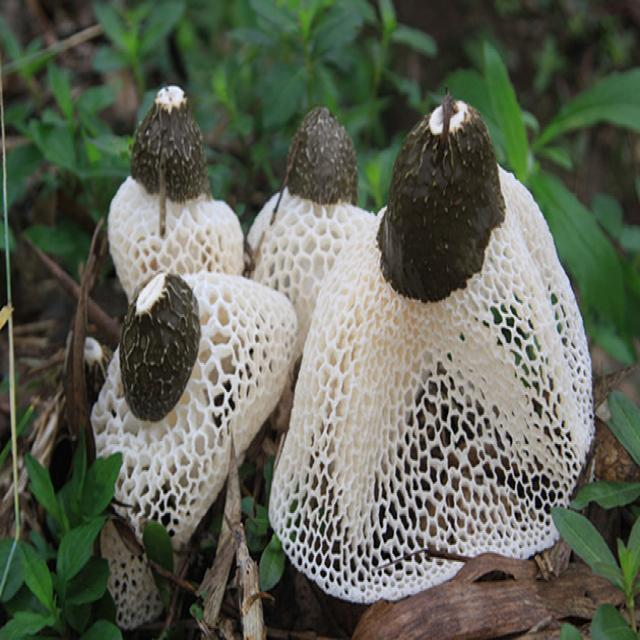Dictyophora indusiate: (270, 99, 596, 605), (96, 275, 297, 541), (107, 85, 245, 279), (245, 108, 374, 298)
